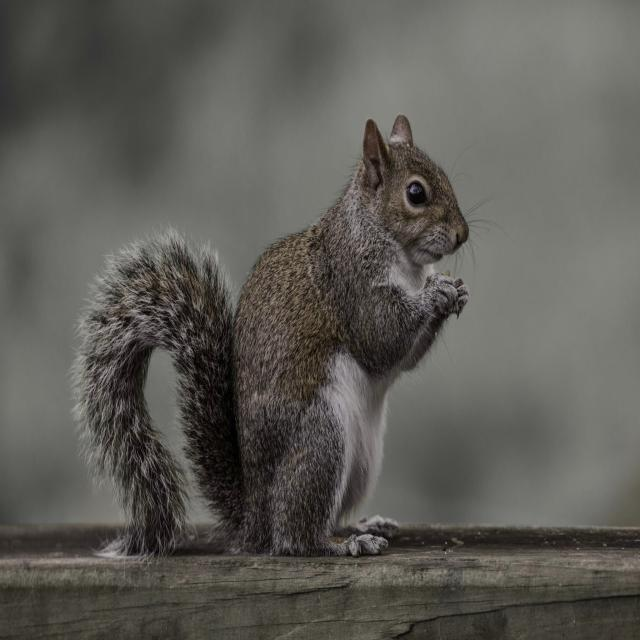squirrel: (74, 115, 469, 557)
